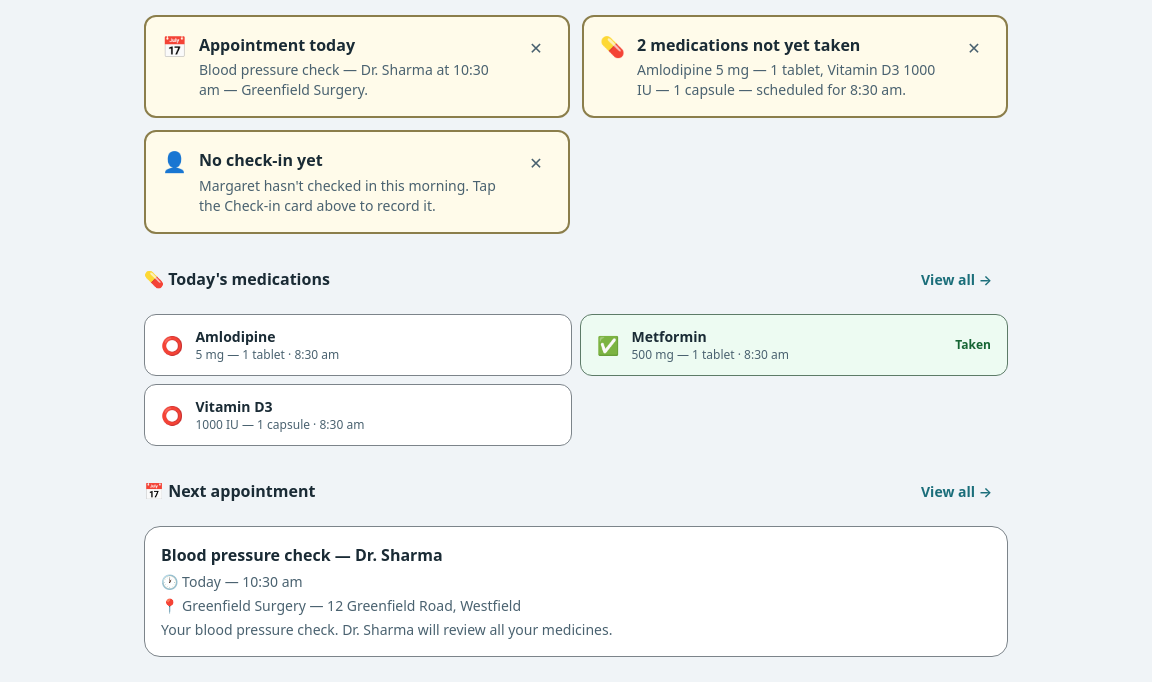
DashboardPage › medication quick toggle marks taken and unmarks
(page scrolled)
Step 1. Click the button with aria-label "mark as" → (236, 336), box left=144, top=314, right=572, bottom=376
Wait 2100 ms
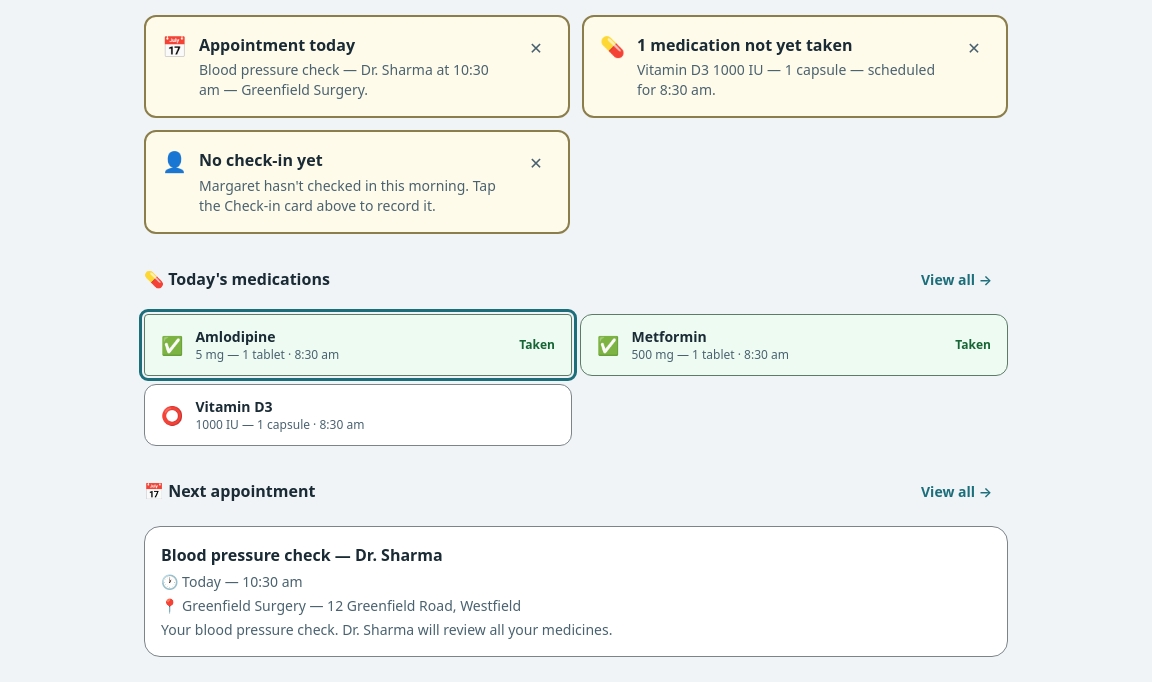
Check: the 1st text "Taken!" is shown, box left=519, top=337, right=555, bottom=353
Step 2. Click the button with aria-label "mark as" → (236, 336), box left=144, top=314, right=572, bottom=376
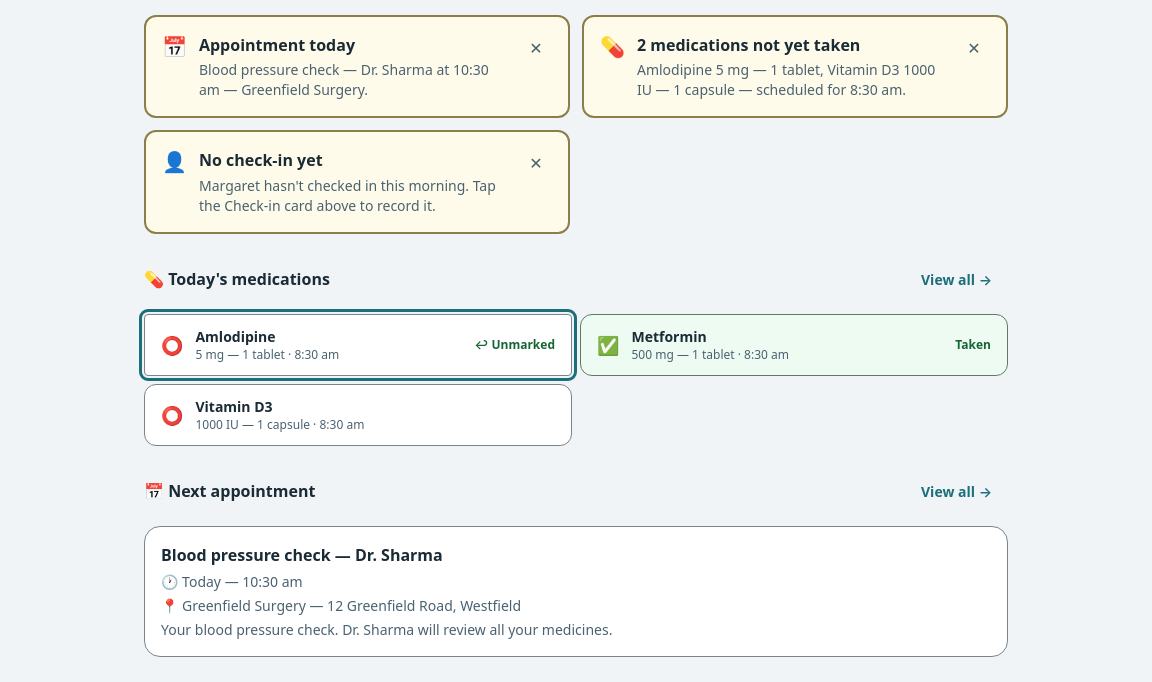
Check: the text "↩ Unmarked" is shown, box left=474, top=337, right=555, bottom=353
